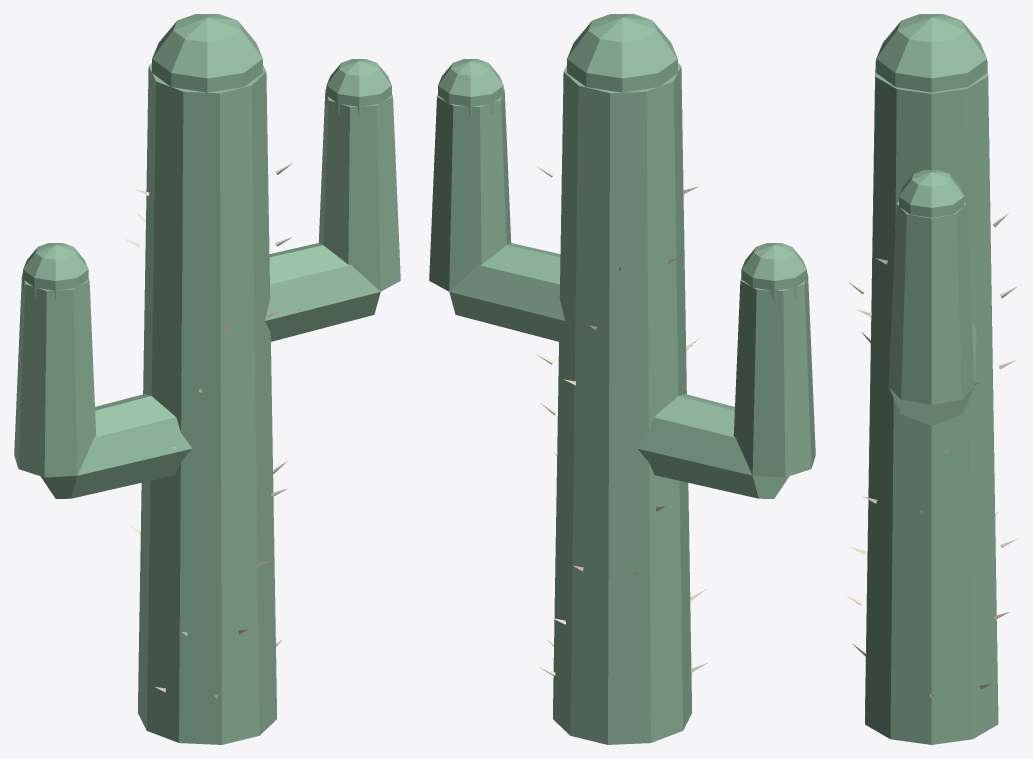
The model's file is cactus.glb.
The picture shows the model from 3 angles, left to right: view 1: azimuth 30°, elevation 25°; view 2: azimuth 150°, elevation 25°; view 3: azimuth 270°, elevation 25°; orthographic projection.
Visible parts, largest first — view 1: cactus; view 2: cactus; view 3: cactus.
Boxes of the visible parts, x1,y1,x2,y2 form: cactus: [14, 14, 400, 744]; cactus: [429, 14, 815, 744]; cactus: [845, 14, 1017, 744].
Bounding box in the file's own units: 1.62 × 2.86 × 0.6484.
